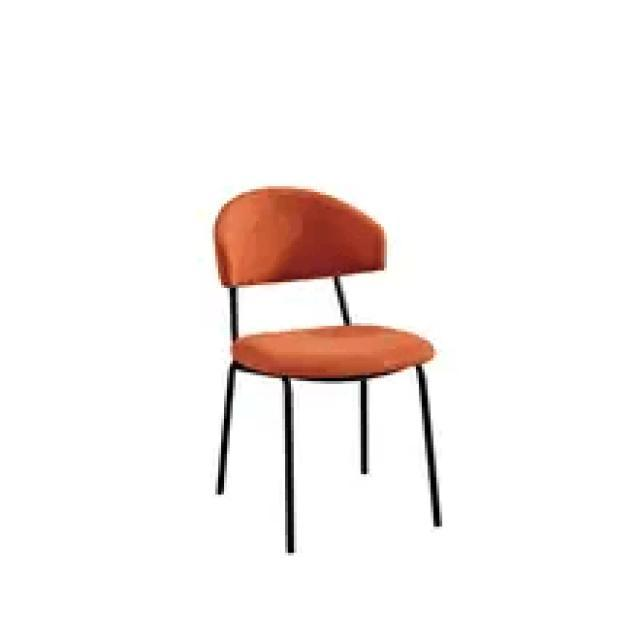chair: (210, 177, 450, 554), (210, 184, 436, 390)
